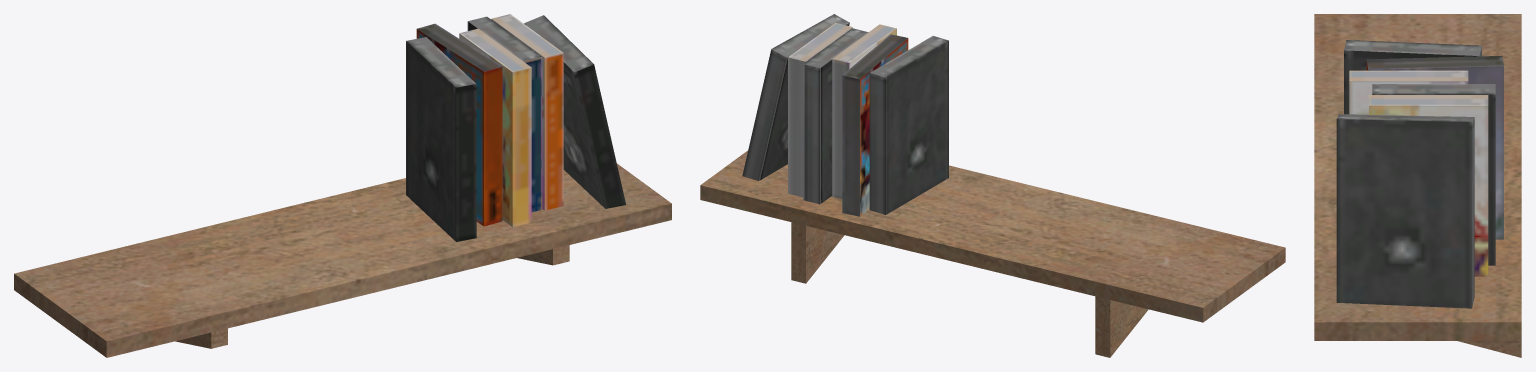
Rendered from Prop_Cupboard3.glb.
3 views of the same model, side by side, from view 1: azimuth 30°, elevation 25°; view 2: azimuth 150°, elevation 25°; view 3: azimuth 270°, elevation 25° (orthographic). The views are drawn at different scales.
Visible parts, largest first — view 1: xiutz_cupboard3; view 2: xiutz_cupboard3; view 3: xiutz_cupboard3.
Part boxes in pixels (<box>): xiutz_cupboard3: <box>14,14,671,357</box>; xiutz_cupboard3: <box>700,14,1285,357</box>; xiutz_cupboard3: <box>1314,14,1521,357</box>.
Size of the model in its own units: 1.98 by 0.7917 by 0.5618.
Materials: 1 (1 with a texture image).
